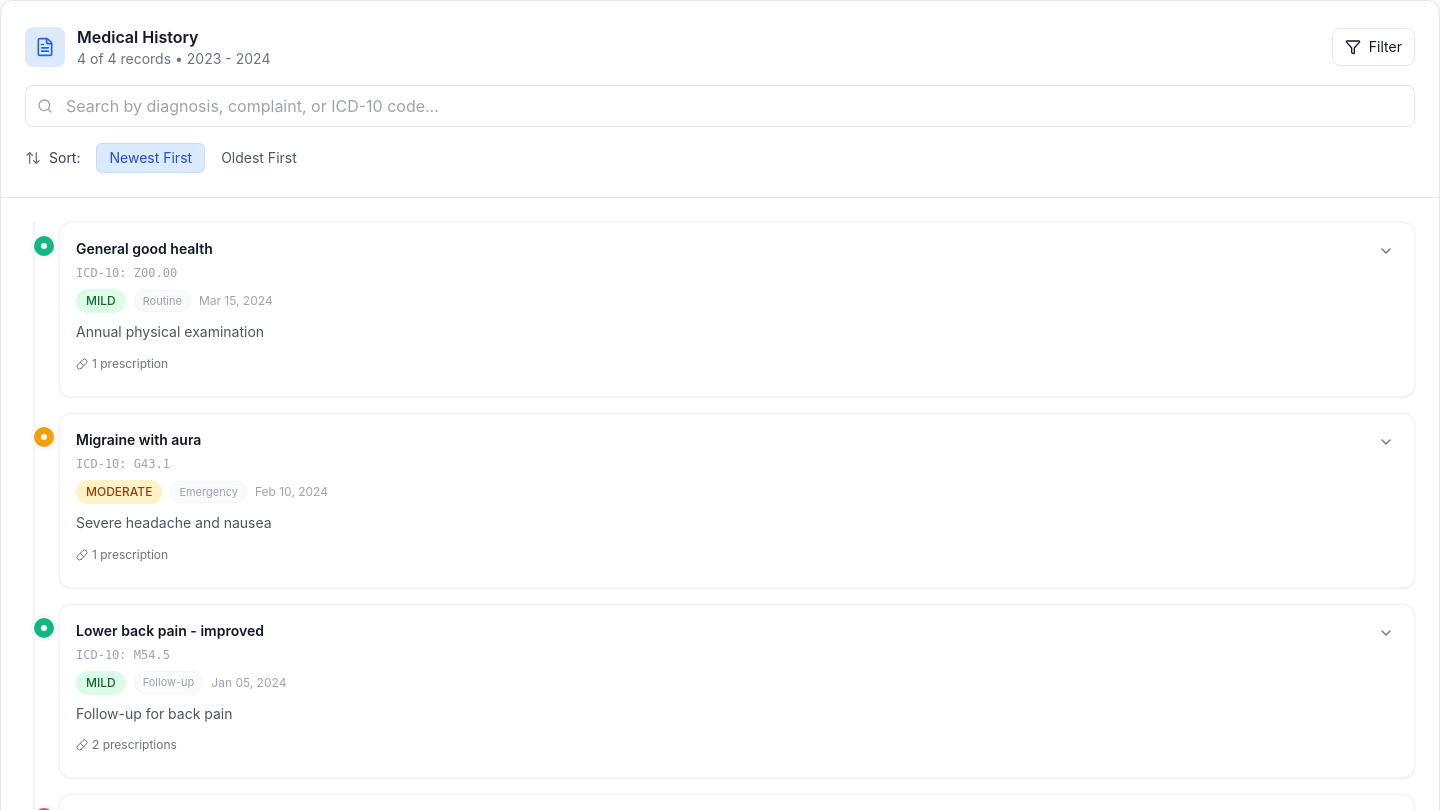
MedicalHistoryTimeline › Search Functionality › can search by chief complaint
Type "back pain" into the search field named "search medical history" at (720, 106), box [25, 85, 1415, 127]
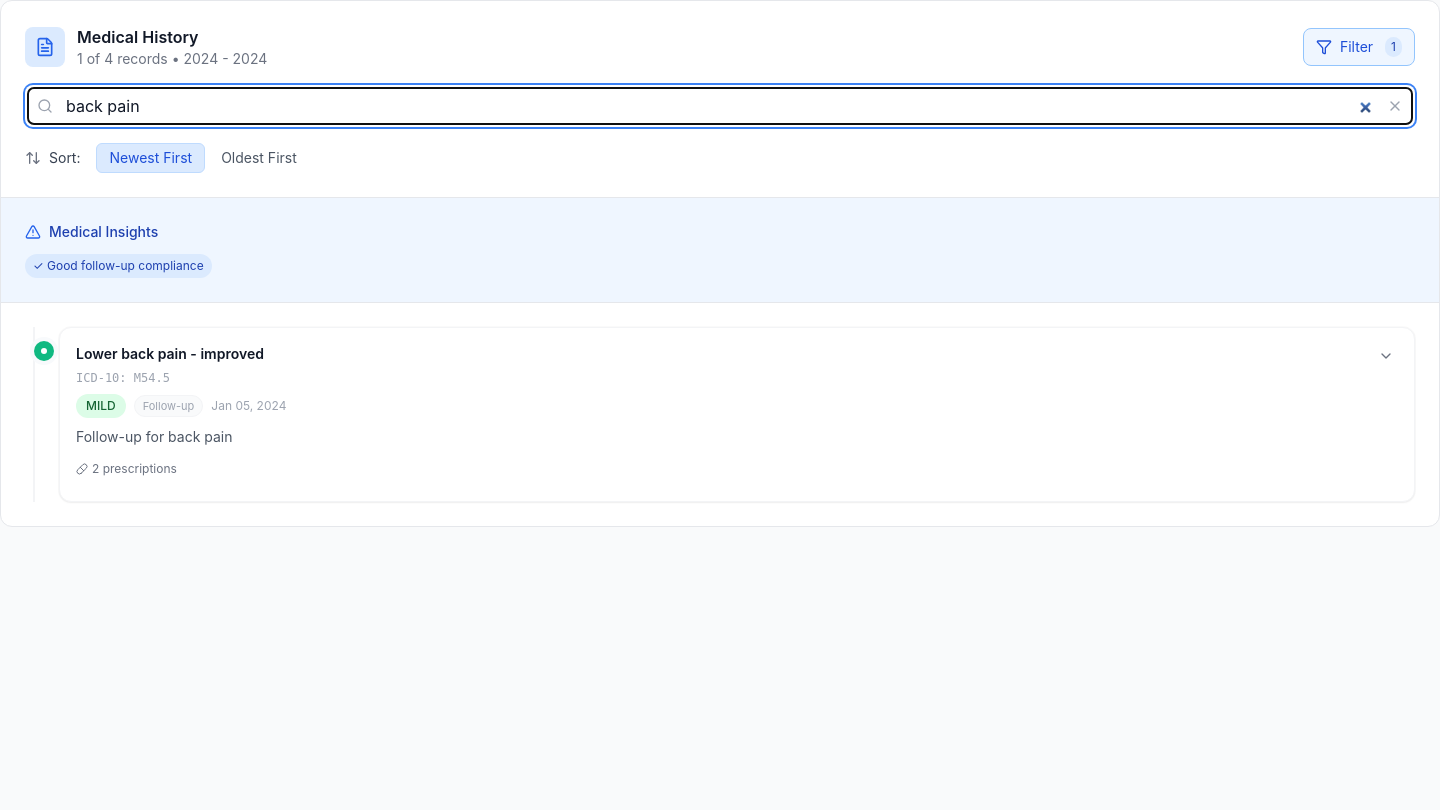
Check: the heading "Lower back pain - improved" is shown, box [76, 344, 264, 364]
Check: the heading "General good health" is gone
